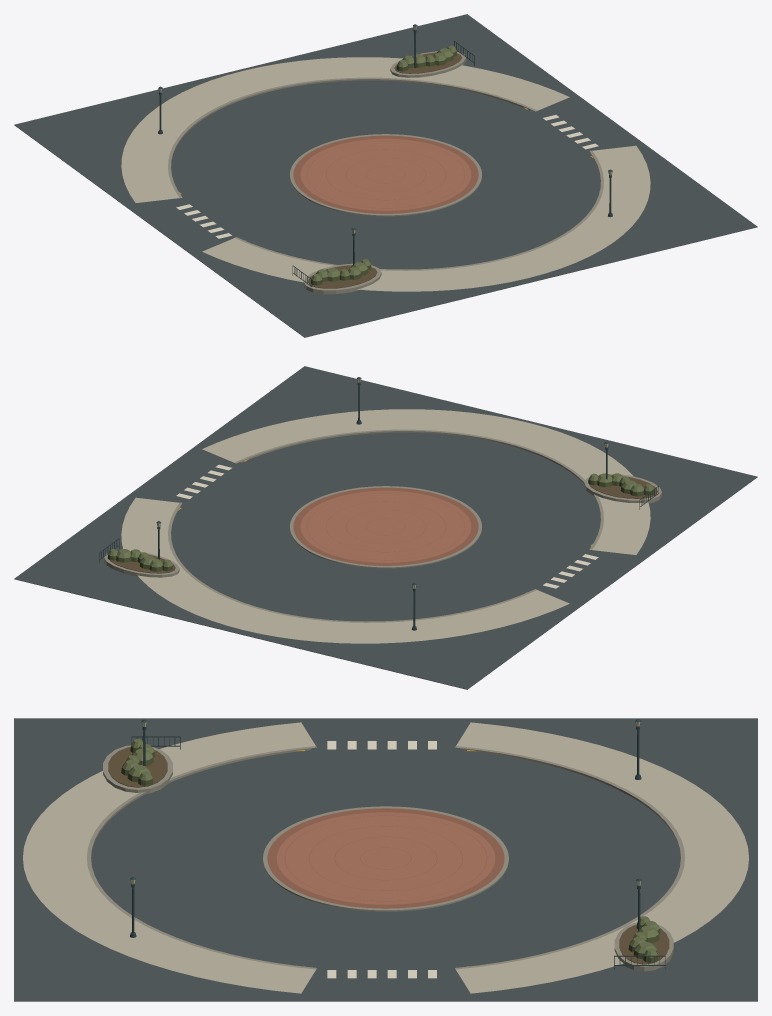
The model's file is roundabout-plaza.glb.
The picture shows the model from 3 angles, top to bottom: view 1: azimuth 30°, elevation 25°; view 2: azimuth 150°, elevation 25°; view 3: azimuth 270°, elevation 25°; orthographic projection. The views are drawn at different scales.
Visible parts, largest first — view 1: Monroe Court Roundabout Plaza; view 2: Monroe Court Roundabout Plaza; view 3: Monroe Court Roundabout Plaza.
Part boxes in pixels (bbox=[...]): Monroe Court Roundabout Plaza: bbox=[14, 14, 757, 337]; Monroe Court Roundabout Plaza: bbox=[14, 366, 757, 689]; Monroe Court Roundabout Plaza: bbox=[14, 718, 757, 1001].
Size of the model in its own units: 41.6 by 4.2 by 46.2.
